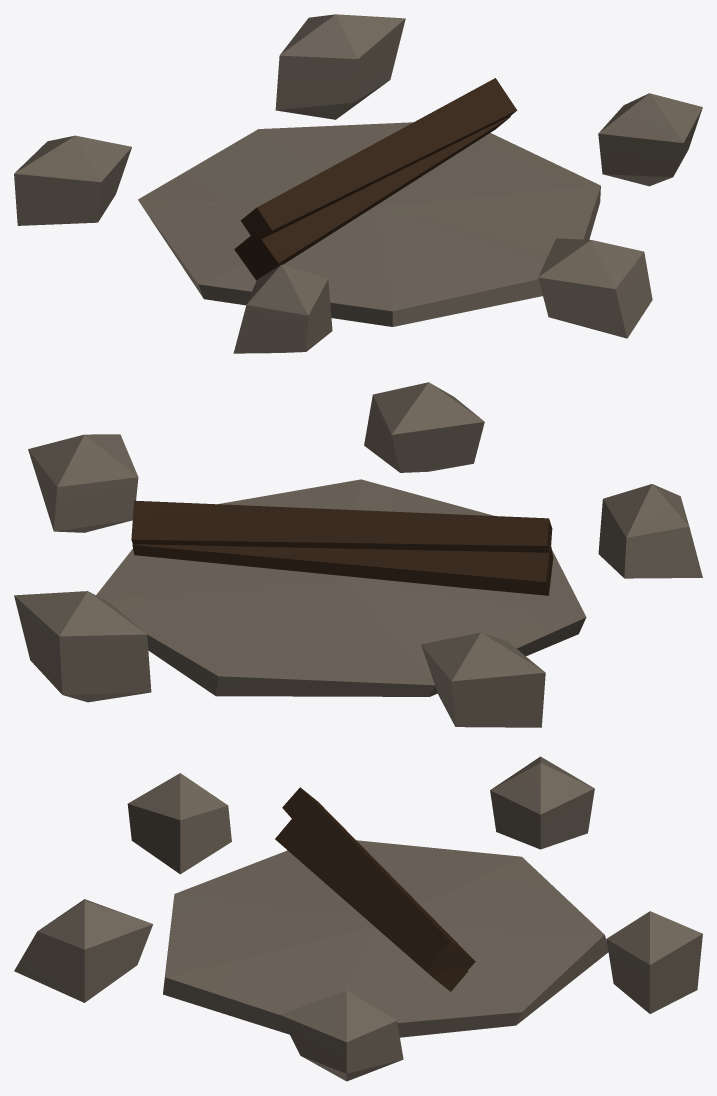
Rendered from caral_hearth_lod1.glb.
3 renders of one model, top to bottom at view 1: azimuth 30°, elevation 25°; view 2: azimuth 150°, elevation 25°; view 3: azimuth 270°, elevation 25°, orthographic. The views are drawn at different scales.
Parts seen in each view (by area): view 1: GEO-Props_hearth_LOD1; view 2: GEO-Props_hearth_LOD1; view 3: GEO-Props_hearth_LOD1.
Part boxes in pixels (<box>): GEO-Props_hearth_LOD1: <box>14,14,702,353</box>; GEO-Props_hearth_LOD1: <box>14,382,702,727</box>; GEO-Props_hearth_LOD1: <box>14,756,702,1081</box>.
Bounding box in the file's own units: 1.1 × 0.1896 × 1.14.
